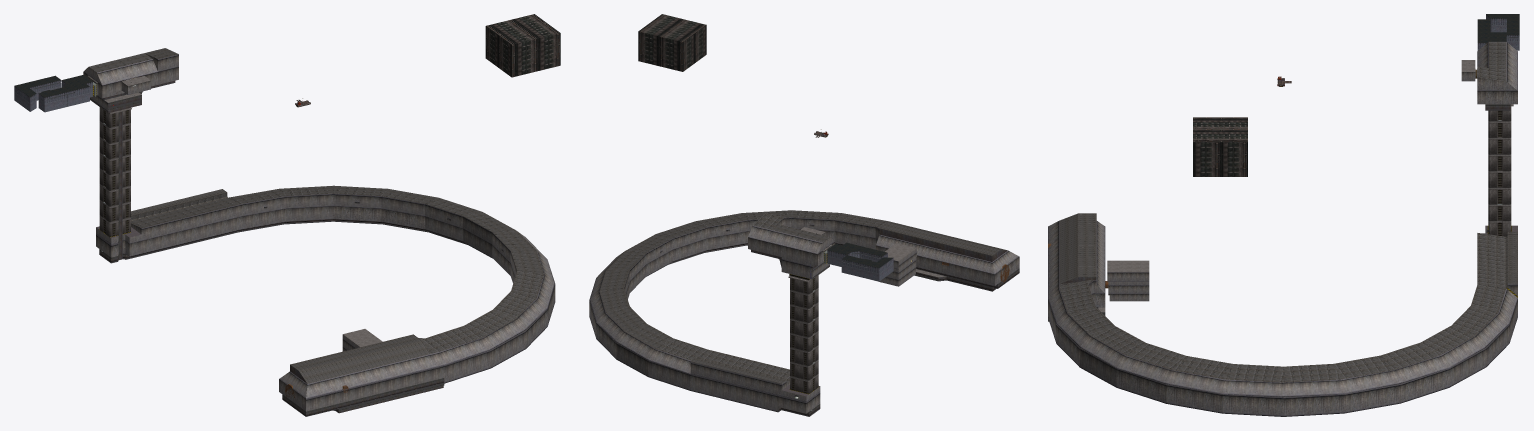
3 views of the same model, side by side, from view 1: azimuth 30°, elevation 25°; view 2: azimuth 150°, elevation 25°; view 3: azimuth 270°, elevation 25° (orthographic). The views are drawn at different scales.
Visible parts, largest first — view 1: c1a4; view 2: c1a4; view 3: c1a4.
Boxes of the visible parts, bbox=[...] form: c1a4: bbox=[14, 14, 560, 416]; c1a4: bbox=[589, 14, 1019, 416]; c1a4: bbox=[1048, 14, 1519, 416].
Bounding box in the file's own units: 213 × 132 × 206.
84 materials, 84 textured.
